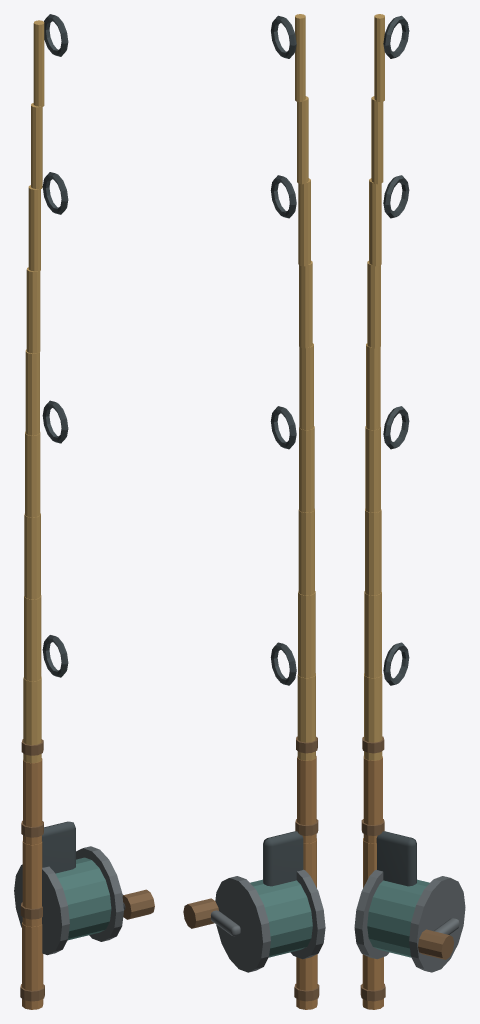
Rendered from fishing_rod.glb.
The picture shows the model from 3 angles, left to right: view 1: azimuth 30°, elevation 25°; view 2: azimuth 210°, elevation 25°; view 3: azimuth 330°, elevation 25°; orthographic projection.
Visible parts, largest first — view 1: Tapered bamboo section.003, Tapered bamboo section, Rod line guide, Reel rim, Reel spindle, Cork grip band; view 2: Tapered bamboo section.003, Reel rim, Rod line guide, Reel spindle, Tapered bamboo section, Cork grip band; view 3: Tapered bamboo section.003, Reel rim, Rod line guide, Reel spindle, Tapered bamboo section, Cork grip band.
Part boxes in pixels (x1=…): Tapered bamboo section.003: x1=23, y1=20, x2=44, y2=763; Tapered bamboo section: x1=22, y1=758, x2=43, y2=1009; Rod line guide: x1=42, y1=14, x2=75, y2=873; Reel rim: x1=14, y1=846, x2=125, y2=955; Reel spindle: x1=56, y1=857, x2=111, y2=940; Cork grip band: x1=20, y1=739, x2=154, y2=1001; Tapered bamboo section.003: x1=295, y1=14, x2=315, y2=760; Reel rim: x1=211, y1=869, x2=325, y2=972; Rod line guide: x1=263, y1=15, x2=303, y2=886; Reel spindle: x1=250, y1=879, x2=312, y2=957; Tapered bamboo section: x1=296, y1=756, x2=317, y2=1009; Cork grip band: x1=183, y1=736, x2=319, y2=1001; Tapered bamboo section.003: x1=364, y1=14, x2=384, y2=760; Reel rim: x1=354, y1=869, x2=465, y2=972; Rod line guide: x1=376, y1=15, x2=416, y2=886; Reel spindle: x1=367, y1=879, x2=429, y2=957; Tapered bamboo section: x1=362, y1=756, x2=383, y2=1009; Cork grip band: x1=360, y1=736, x2=453, y2=1001.
Size of the model in its own units: 0.2025 by 1.81 by 0.171.
